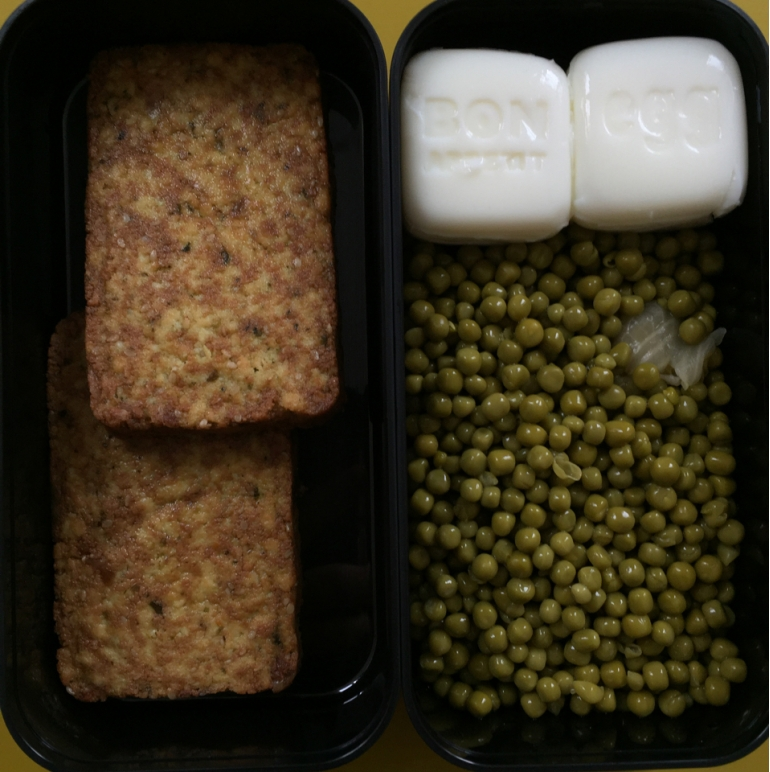boiled peas: (407, 261, 753, 723), (432, 368, 601, 540)
